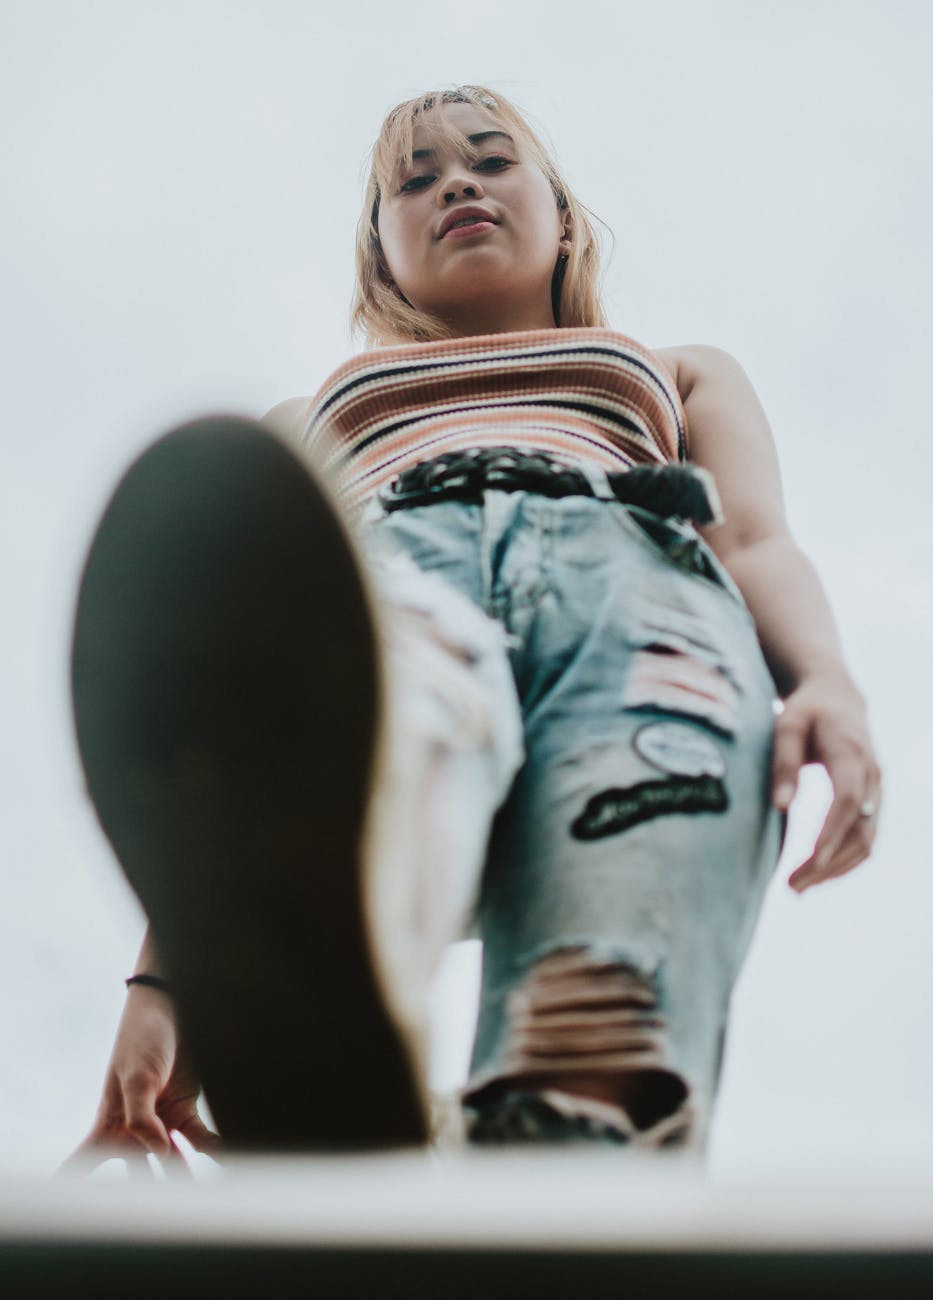ripped_jeans: (352, 481, 788, 1091)
sleeveless_top: (295, 330, 704, 461)
